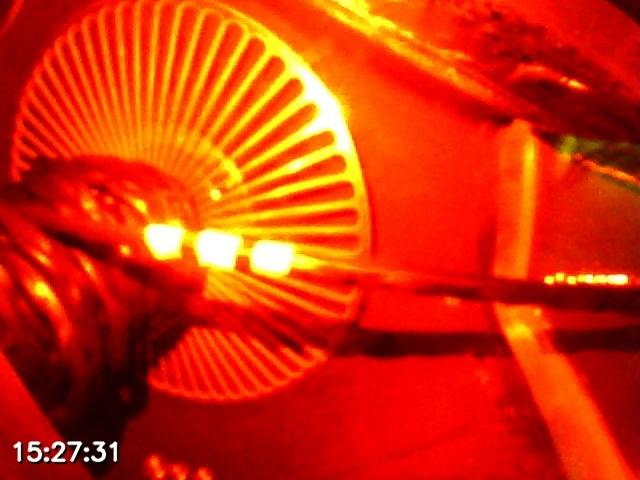white-dots: (142, 221, 296, 279)
